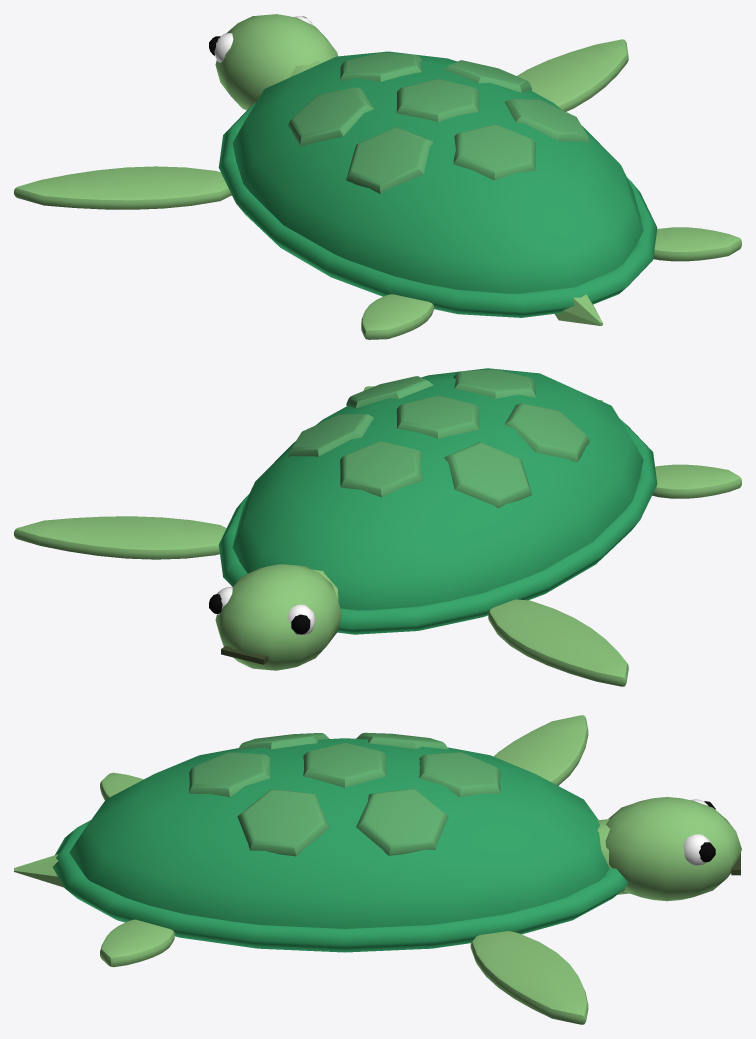
The model's file is turtle.glb.
3 renders of one model, top to bottom at view 1: azimuth 30°, elevation 25°; view 2: azimuth 150°, elevation 25°; view 3: azimuth 270°, elevation 25°, orthographic.
Parts seen in each view (by area): view 1: ShellMesh, FlipperFRMesh, HeadMesh, FlipperFLMesh, FlipperRLMesh, FlipperRRMesh; view 2: ShellMesh, HeadMesh, FlipperFLMesh, FlipperFRMesh, FlipperRRMesh; view 3: ShellMesh, HeadMesh, FlipperFLMesh, FlipperFRMesh, FlipperRLMesh, FlipperRRMesh.
Boxes of the visible parts, x1=… form: ShellMesh: x1=218, y1=51, x2=657, y2=325; FlipperFRMesh: x1=14, y1=166, x2=231, y2=209; HeadMesh: x1=209, y1=14, x2=337, y2=110; FlipperFLMesh: x1=517, y1=39, x2=628, y2=111; FlipperRLMesh: x1=653, y1=227, x2=741, y2=261; FlipperRRMesh: x1=361, y1=294, x2=434, y2=339; ShellMesh: x1=218, y1=368, x2=657, y2=634; HeadMesh: x1=209, y1=564, x2=341, y2=670; FlipperFLMesh: x1=14, y1=516, x2=226, y2=559; FlipperFRMesh: x1=488, y1=599, x2=628, y2=686; FlipperRRMesh: x1=652, y1=464, x2=741, y2=498; ShellMesh: x1=14, y1=732, x2=628, y2=952; HeadMesh: x1=597, y1=797, x2=741, y2=901; FlipperFLMesh: x1=470, y1=931, x2=588, y2=1024; FlipperFRMesh: x1=494, y1=715, x2=588, y2=785; FlipperRLMesh: x1=100, y1=919, x2=174, y2=967; FlipperRRMesh: x1=100, y1=772, x2=143, y2=800.
Bounding box in the file's own units: 3.72 × 0.779 × 3.8.
